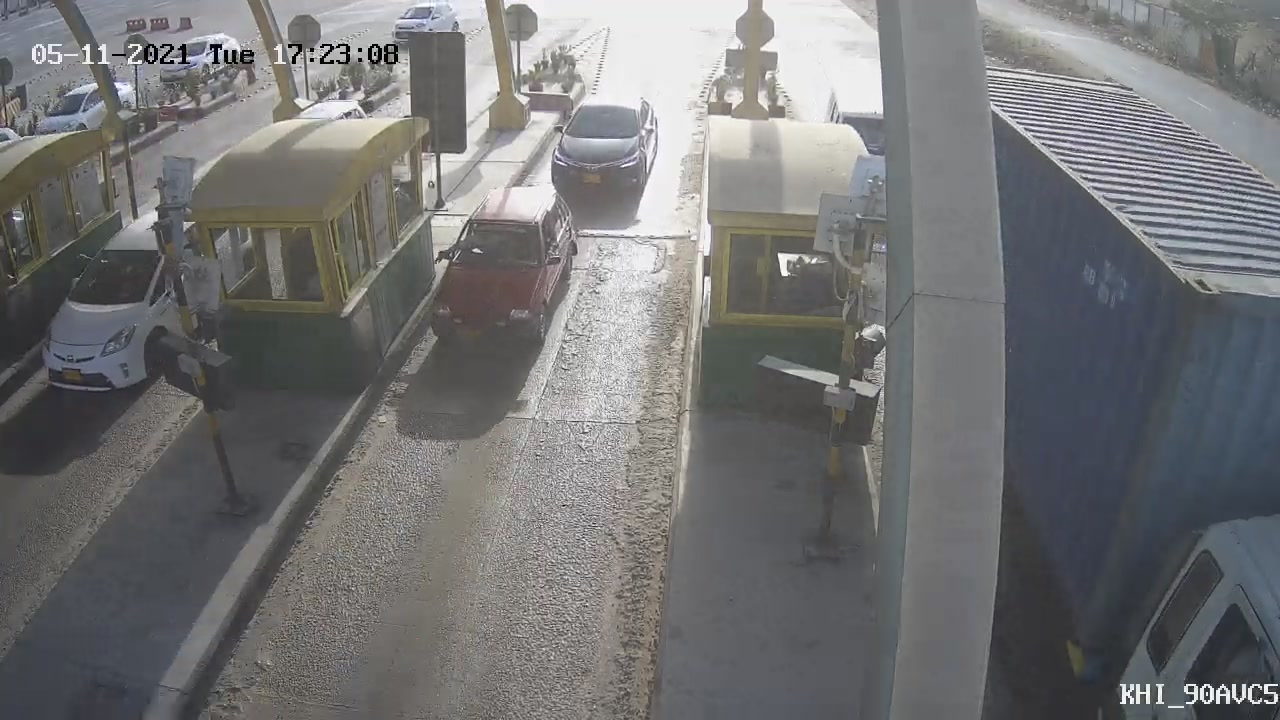F1: (407, 170, 591, 375), (529, 79, 676, 218)
